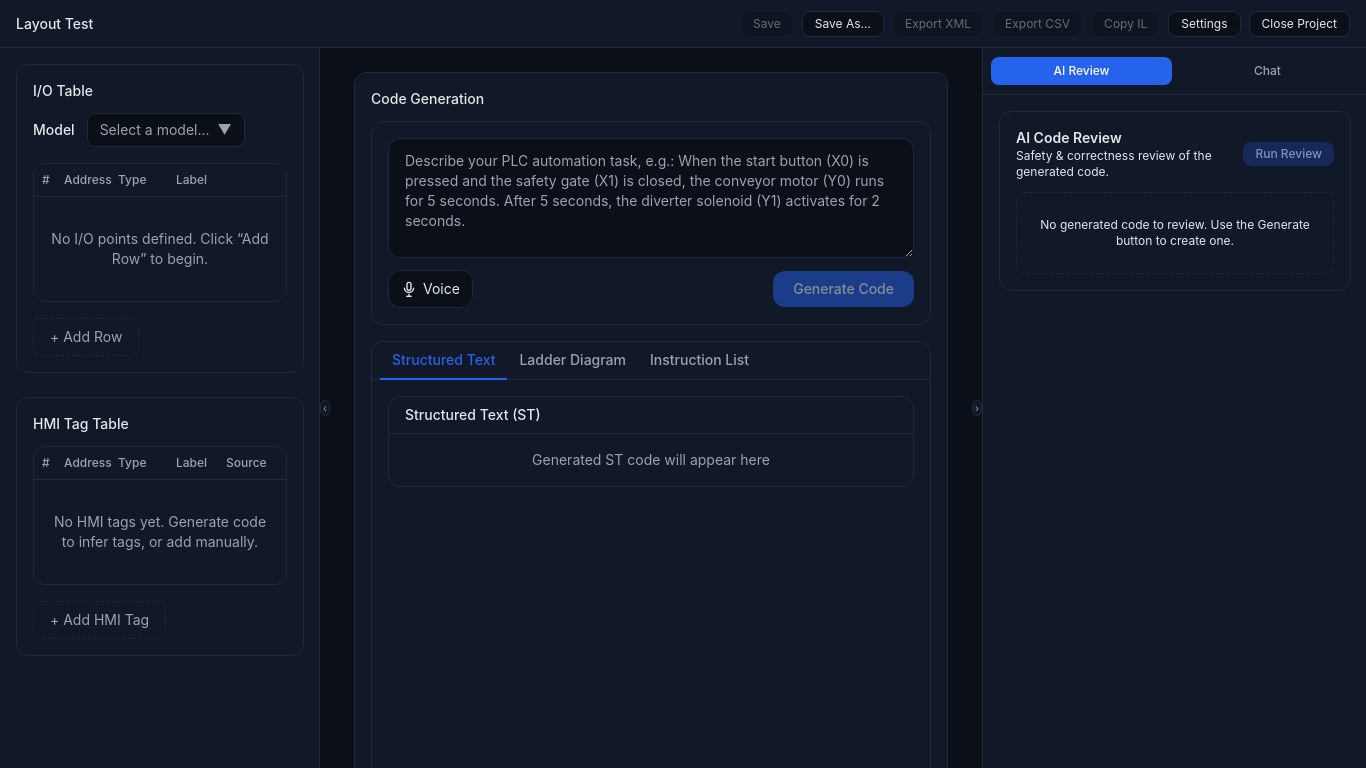
Test: ProjectLayout — collapsible sidebars (M10.3.4) › flips the arrow glyph of both handles when collapsing
Expected: the button with test id "toggle-right-sidebar" reads "›", left=972, top=48, right=982, bottom=767
Click the button with test id "toggle-left-sidebar": click(325, 408) left=320, top=48, right=330, bottom=767
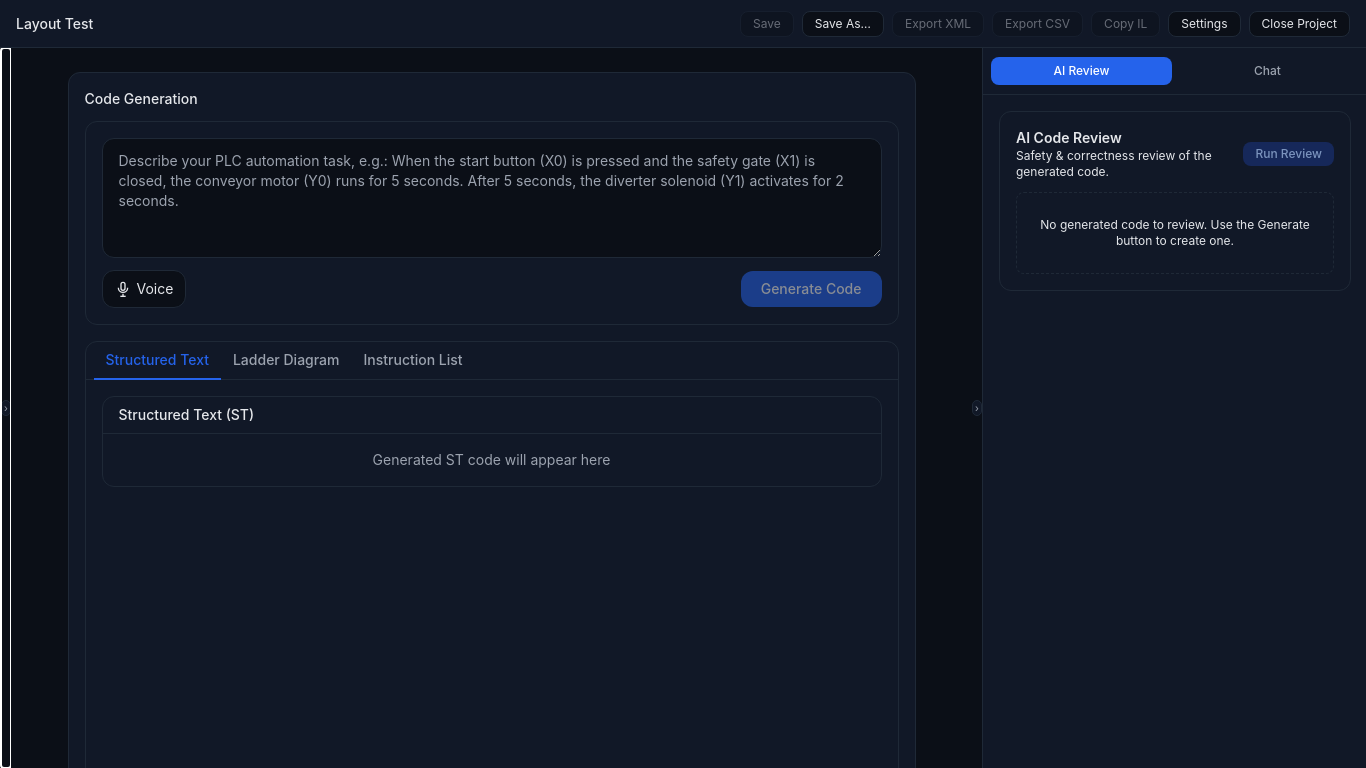
Click the button with test id "toggle-right-sidebar": click(977, 408) left=972, top=48, right=982, bottom=767
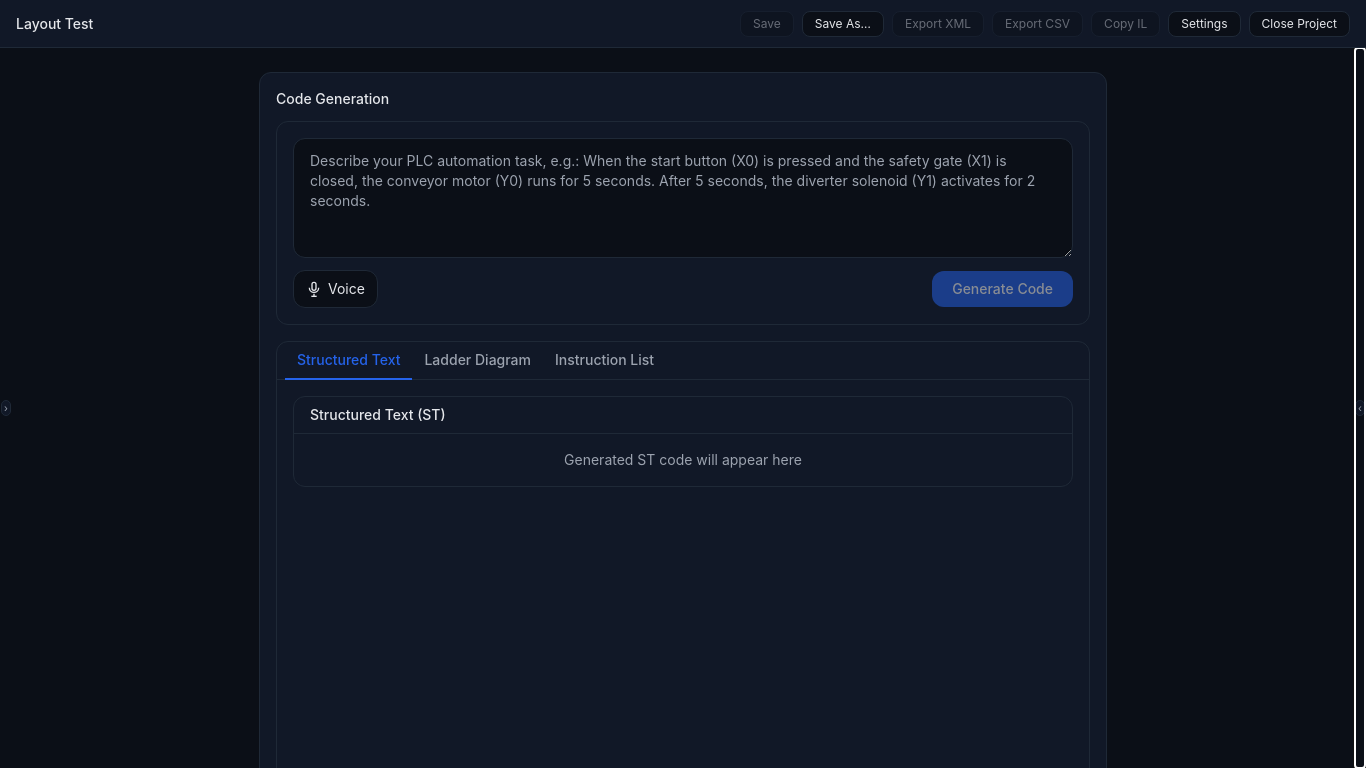
Now the button with test id "toggle-left-sidebar" reads "›", box left=1, top=48, right=11, bottom=767
Now the button with test id "toggle-right-sidebar" reads "‹", box left=1355, top=48, right=1365, bottom=767
